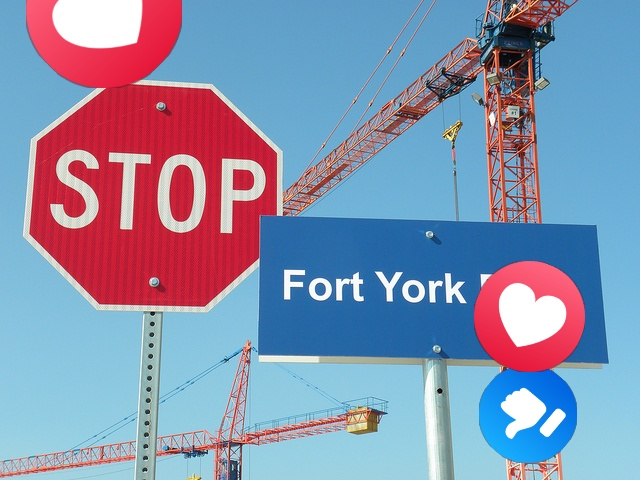like: (479, 365, 577, 463)
love: (26, 0, 182, 88), (474, 261, 585, 372)
